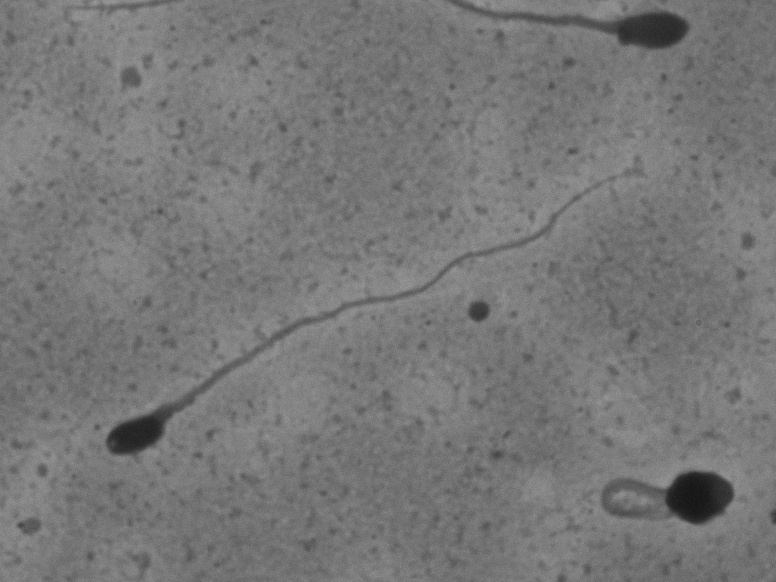Abnormal: (88, 161, 639, 465), (551, 445, 757, 541)
